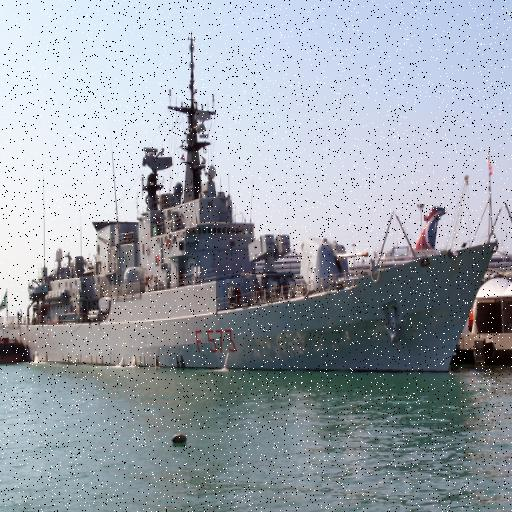Fragata: (1, 10, 501, 382)
